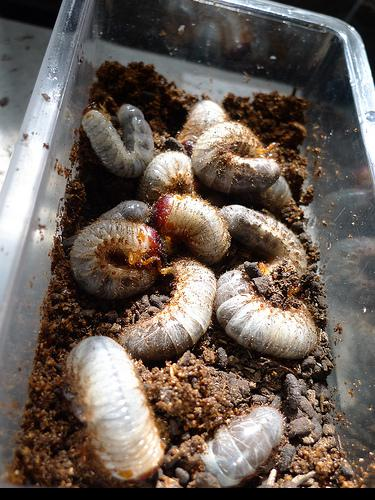grub: (81, 96, 314, 481)
